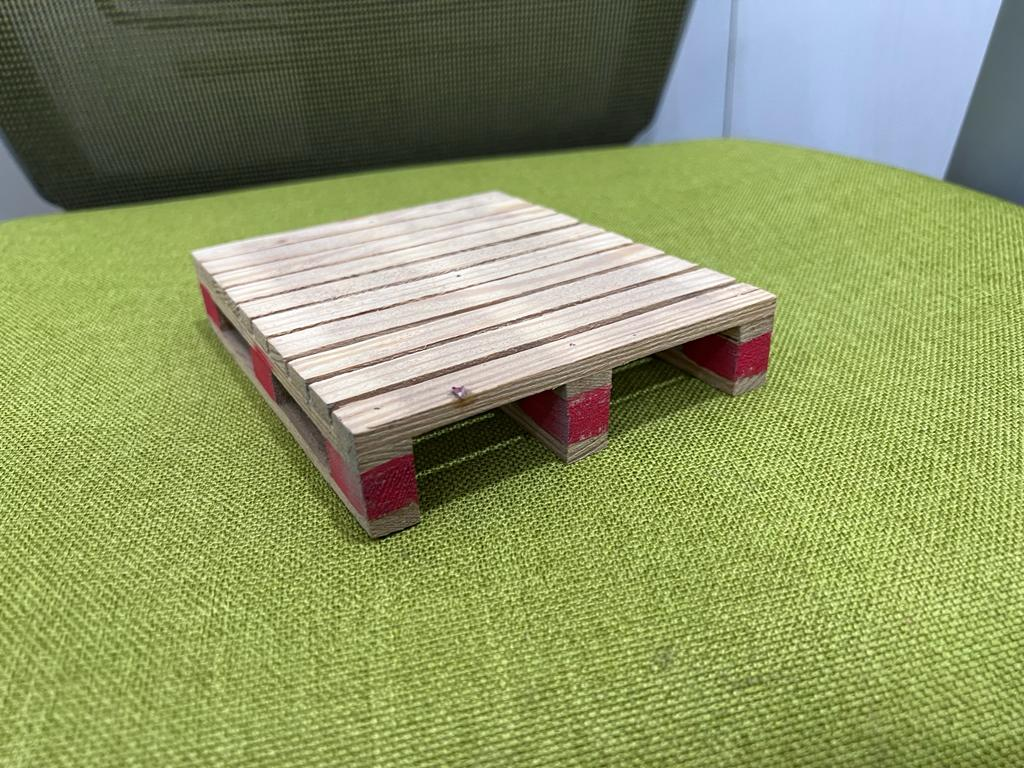pallet: (94, 181, 853, 558)
